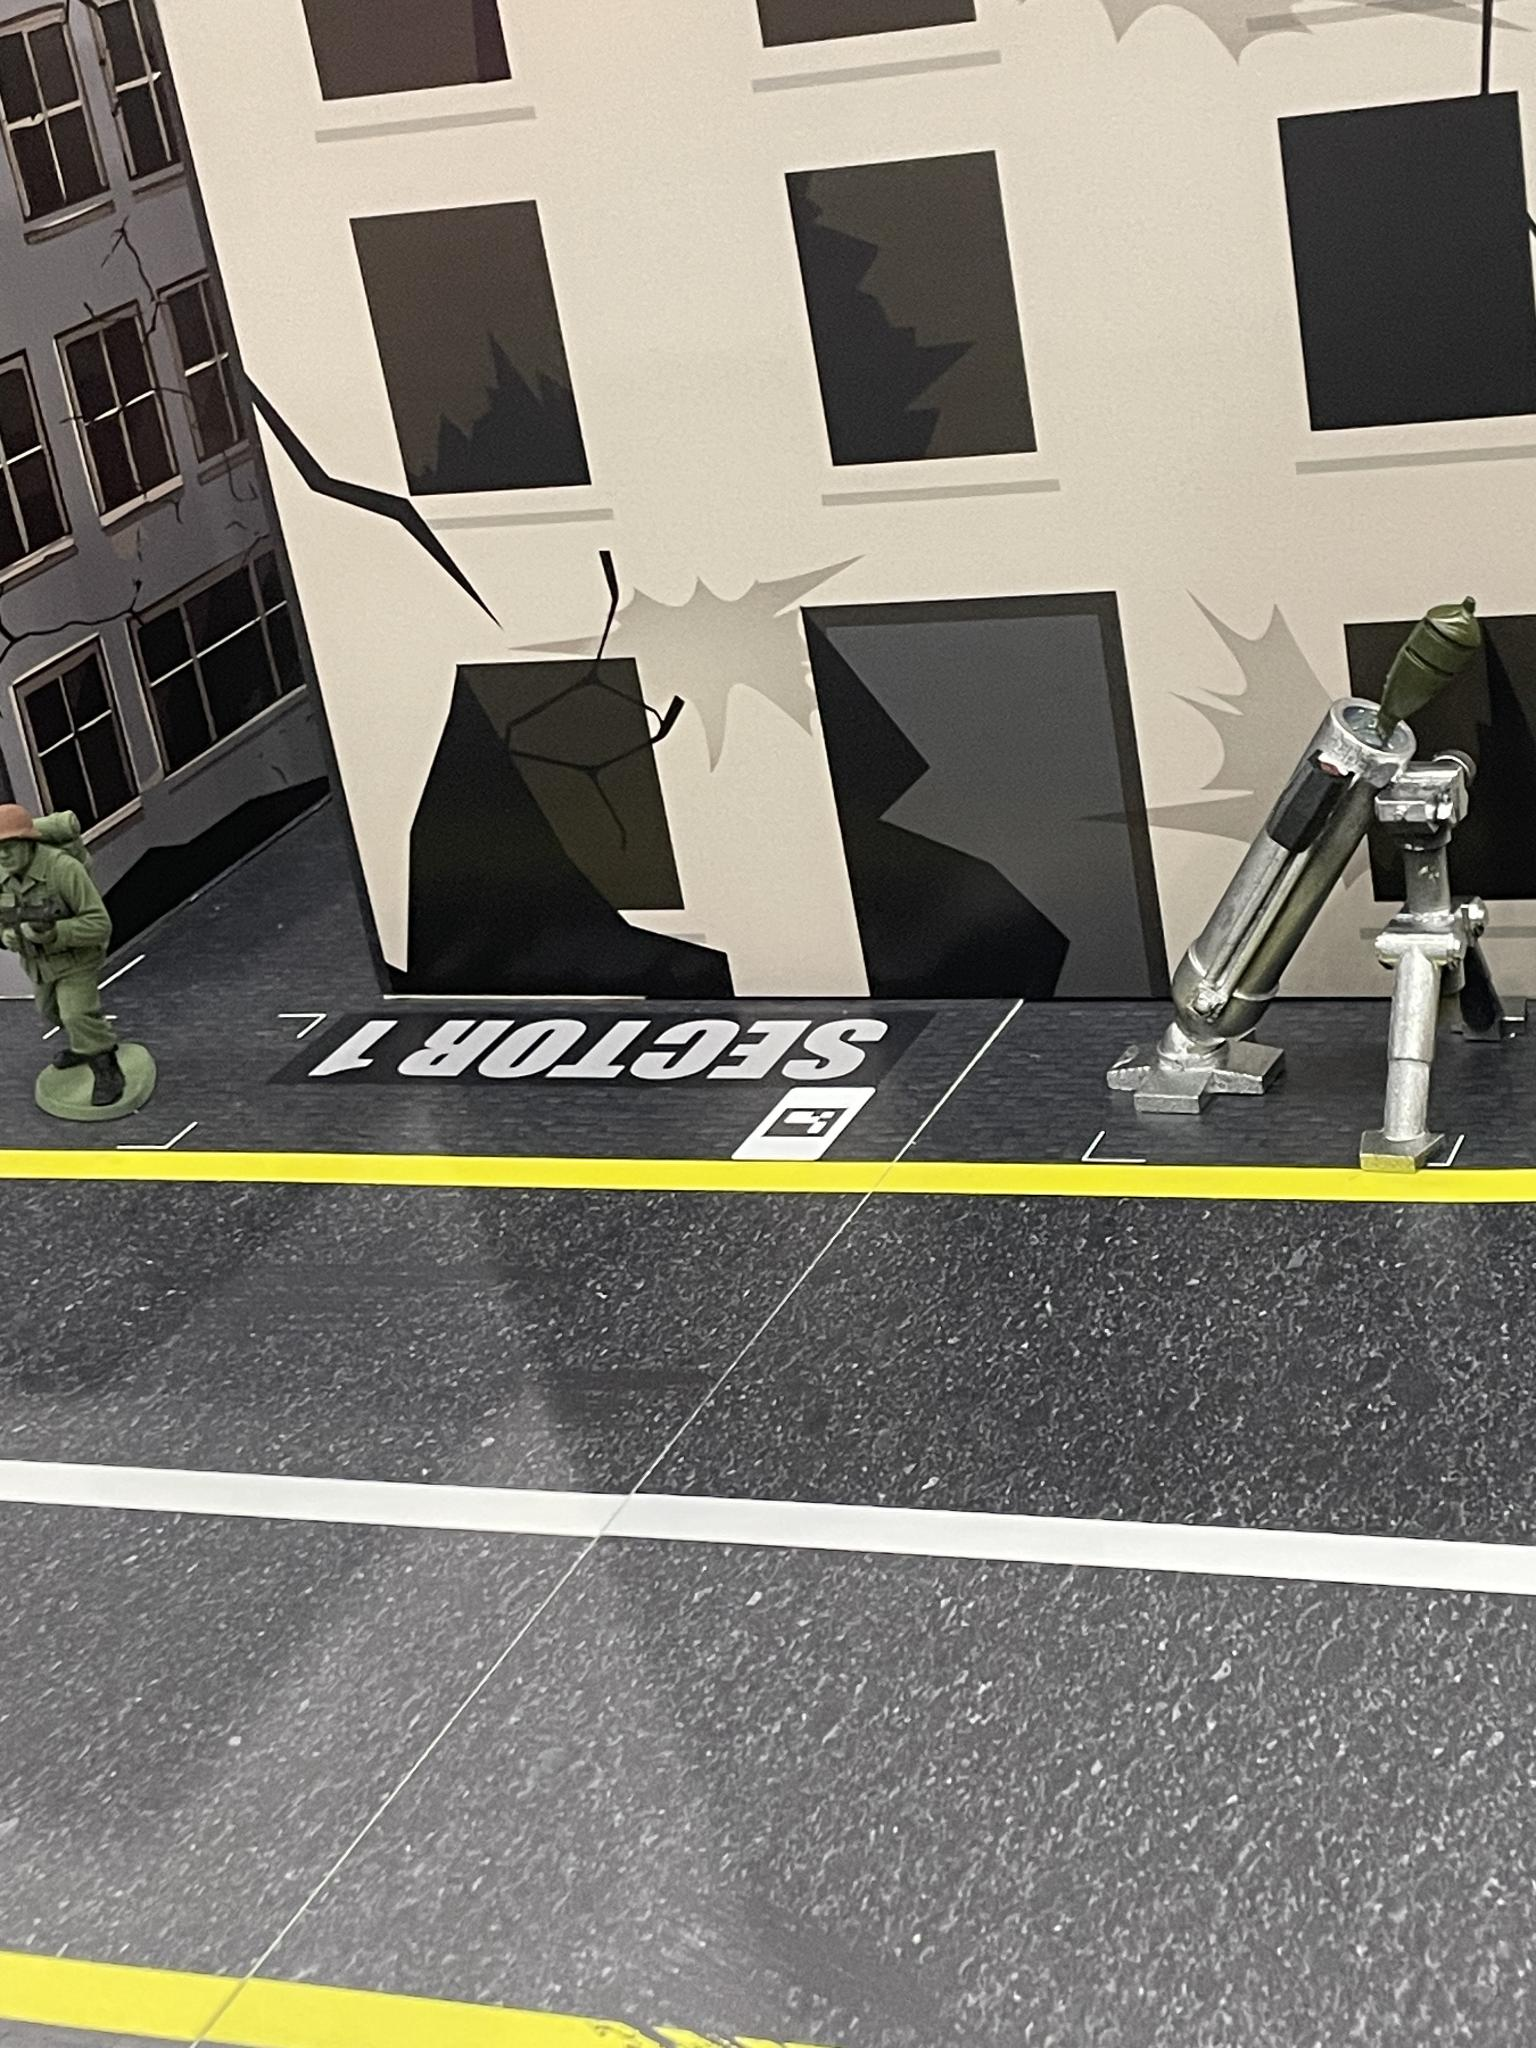Enemy: (0, 800, 163, 1127)
Mortar: (1107, 587, 1526, 1174)
